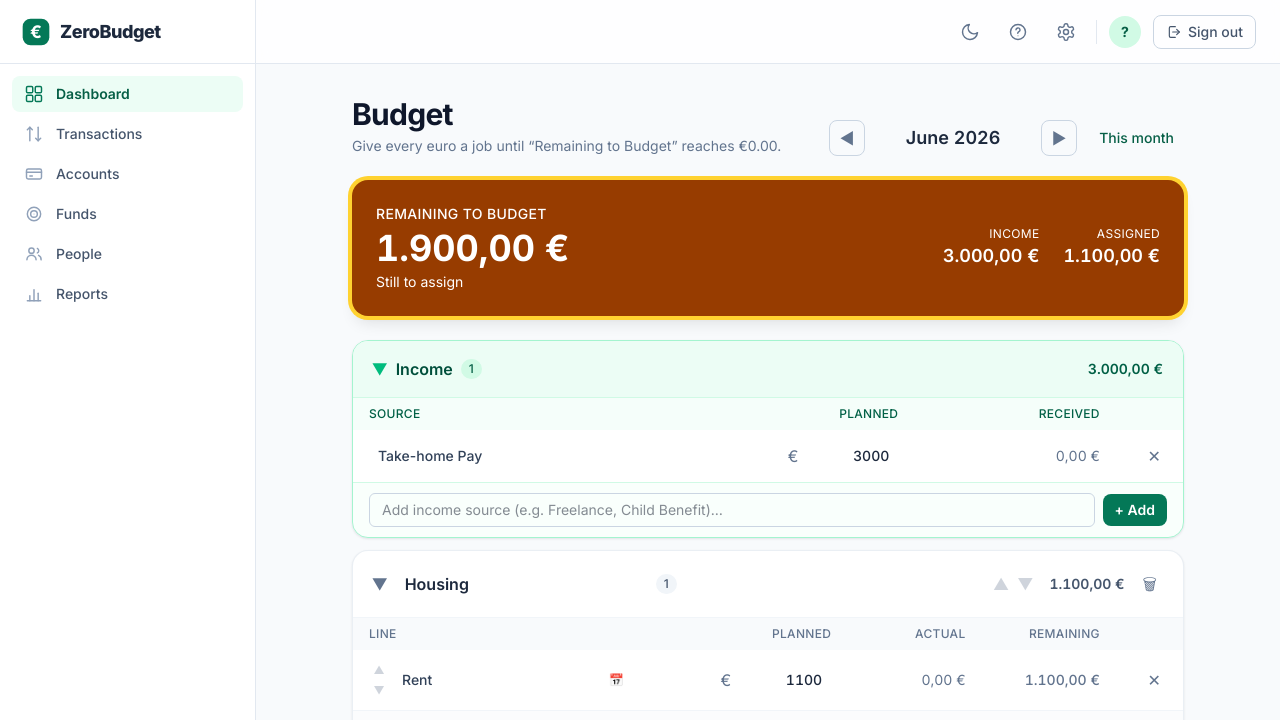
DashboardPage optimistic editing › rolls back to the previous value and shows an error when the save fails
Replace the text in the field named "Planned amount for Rent" with "3000": (783, 680) 735,665 -> 831,695
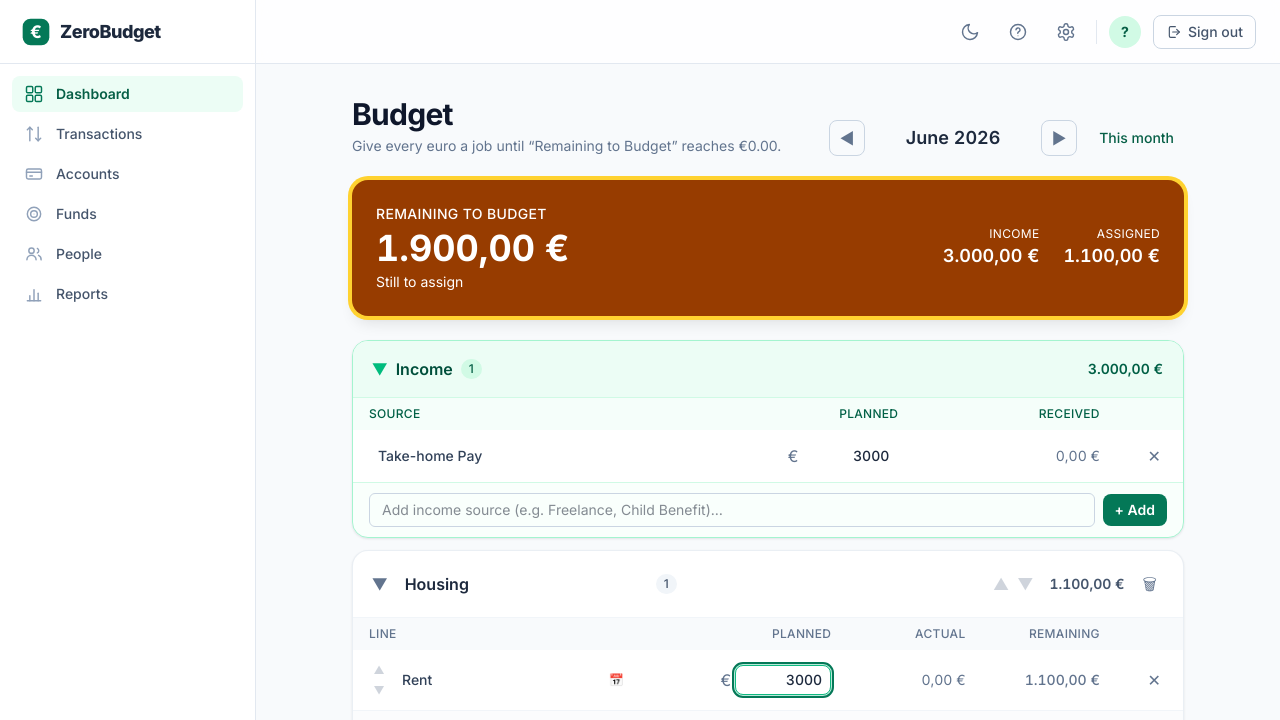
Press Tab
(page scrolled)
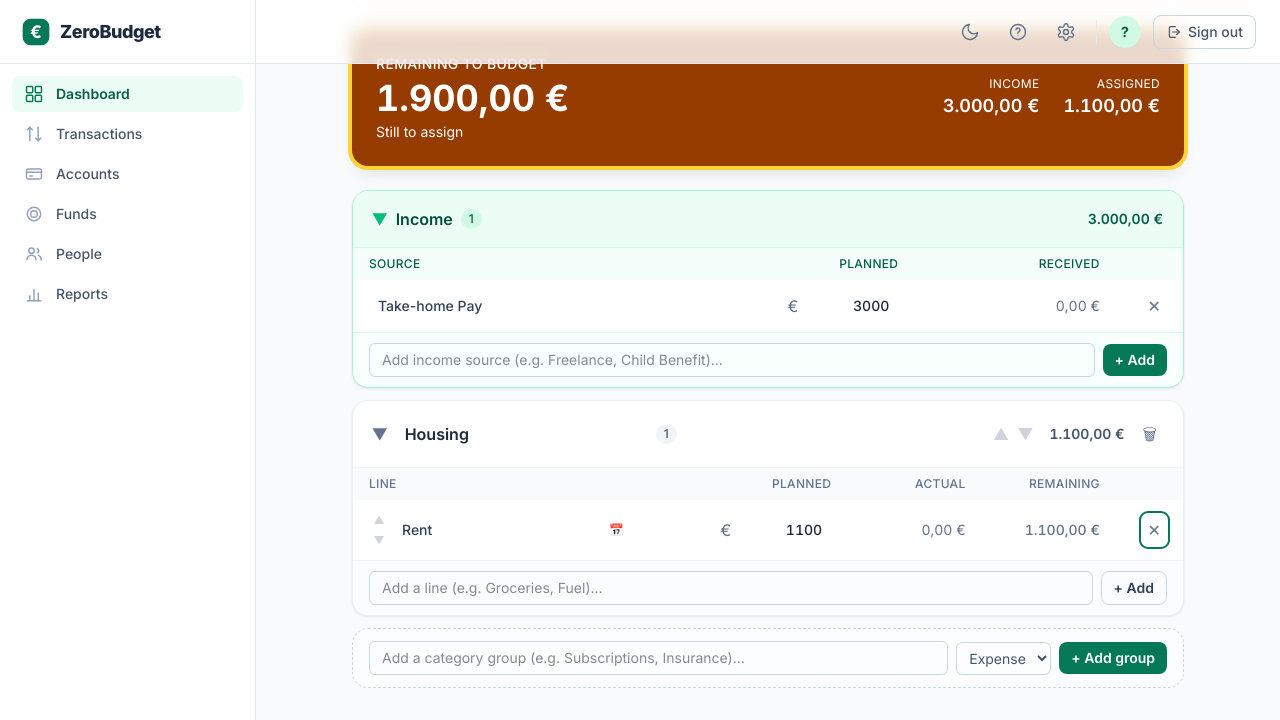
Check: the field named "Planned amount for Rent" holds "1100", box 735,515 -> 831,545
